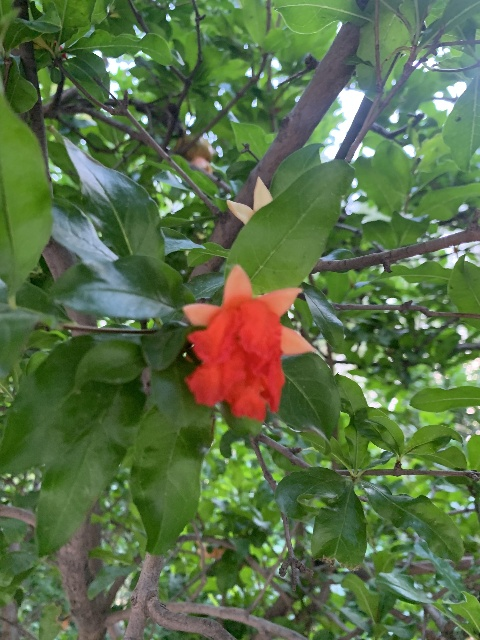early-fruit: (173, 133, 214, 174)
flower: (182, 264, 316, 423)
